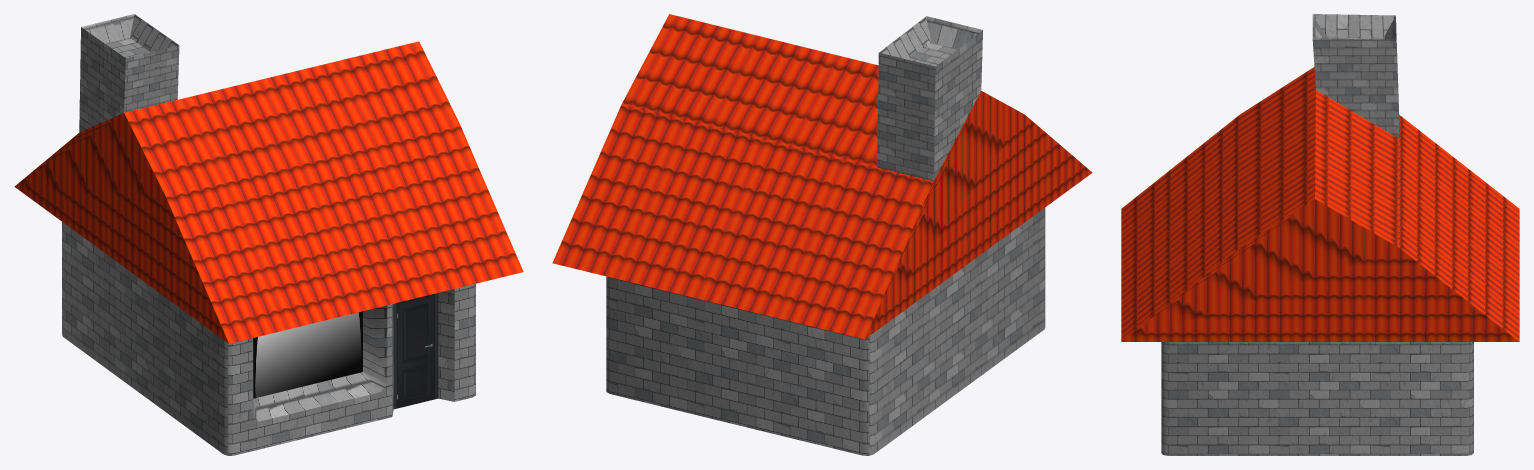
Rendered from house_new.fbx.
The picture shows the model from 3 angles, left to right: view 1: azimuth 30°, elevation 25°; view 2: azimuth 150°, elevation 25°; view 3: azimuth 270°, elevation 25°; orthographic projection. The views are drawn at different scales.
Parts seen in each view (by area): view 1: Mesh; view 2: Mesh; view 3: Mesh.
Part boxes in pixels (x1,y1,x2,y2): Mesh: (14, 14, 523, 455); Mesh: (552, 14, 1092, 455); Mesh: (1121, 14, 1519, 455).
Size of the model in its own units: 3.86 by 4.31 by 4.88.
